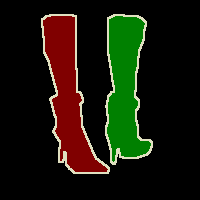shoe: (42, 14, 109, 173), (106, 15, 152, 164)
